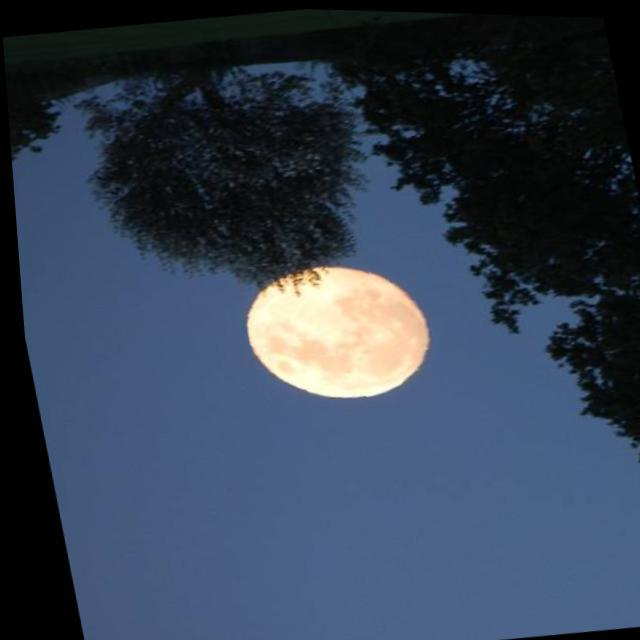moon: (228, 240, 468, 410)
